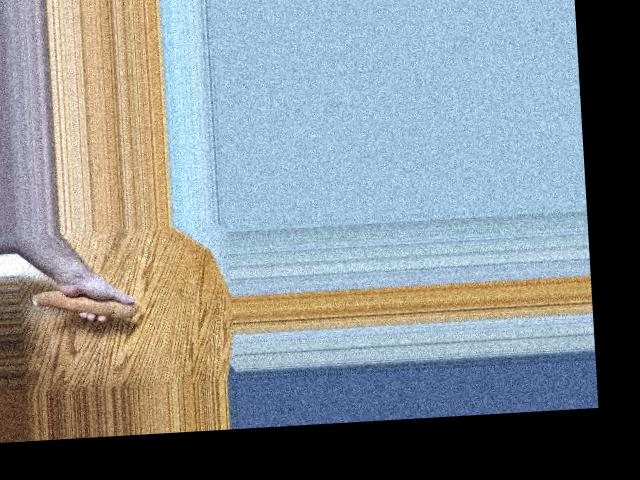sweet_potato: (27, 281, 138, 325)
